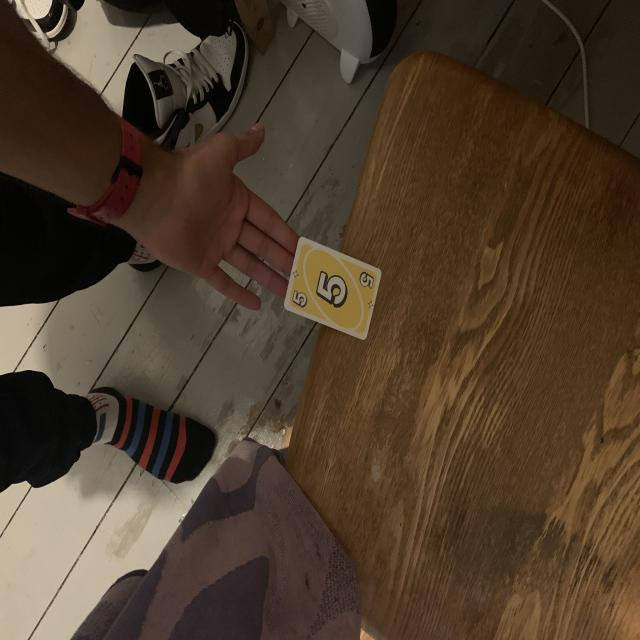lyellow-5: (289, 282, 311, 313)
